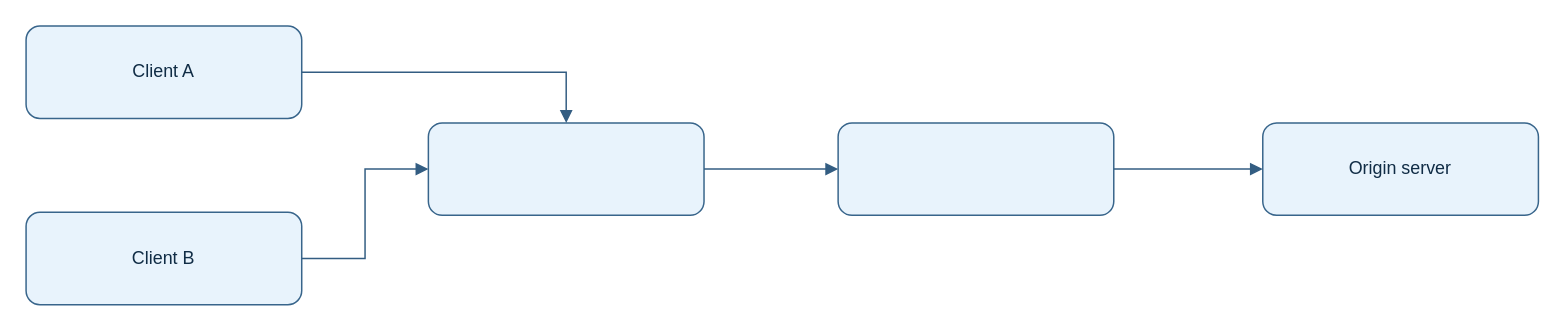
Some shapes in this 1565 by 331 pixel diagram are drawn without their labels. Each missing label, with the centre of its shape:
Explicit proxy: the point at 565,168
Upstream TCP pool: the point at 975,168
